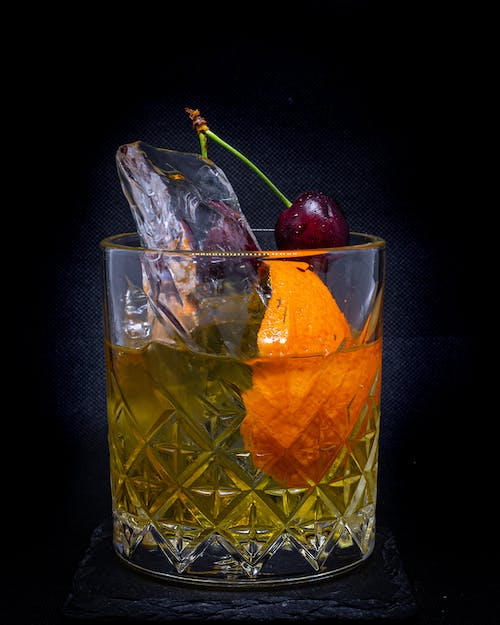alcohol: (99, 225, 388, 590)
